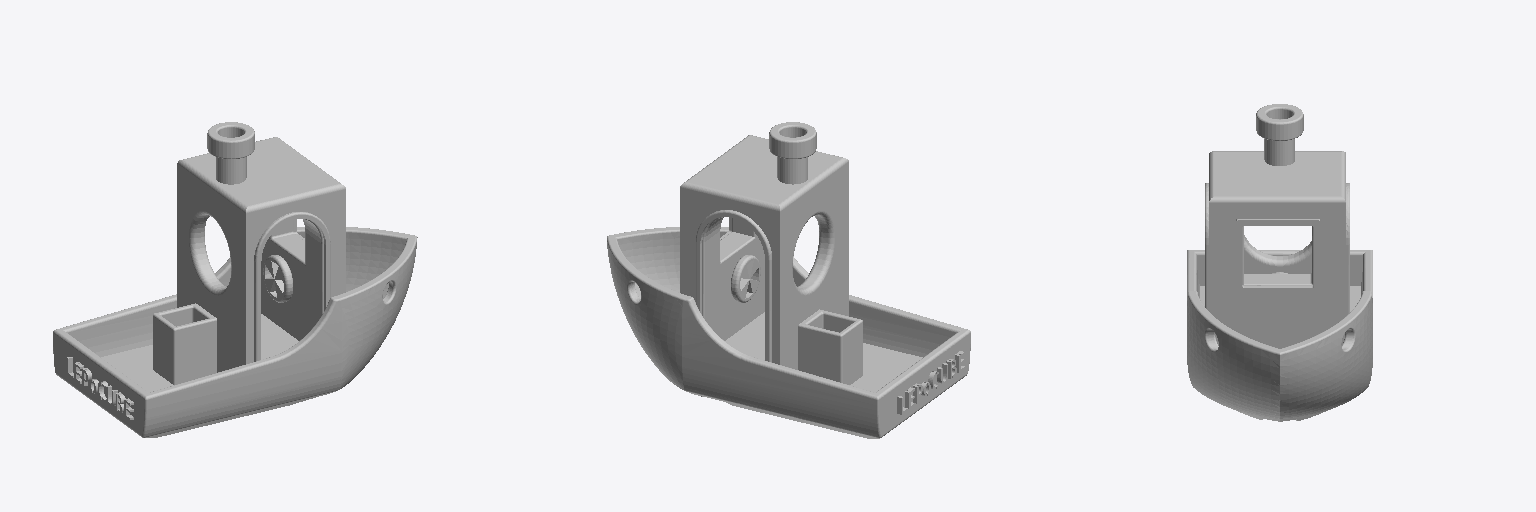
File: Boat.obj
3 renders of one model, left to right at view 1: azimuth 30°, elevation 25°; view 2: azimuth 150°, elevation 25°; view 3: azimuth 270°, elevation 25°, orthographic.
Parts seen in each view (by area): view 1: Boat; view 2: Boat; view 3: Boat.
Boxes of the visible parts, box(x1,y1,x2,y2) form: Boat: box(53, 122, 417, 437); Boat: box(607, 122, 970, 438); Boat: box(1187, 104, 1372, 421).
Size of the model in its own units: 1.41 by 1.09 by 0.7057.